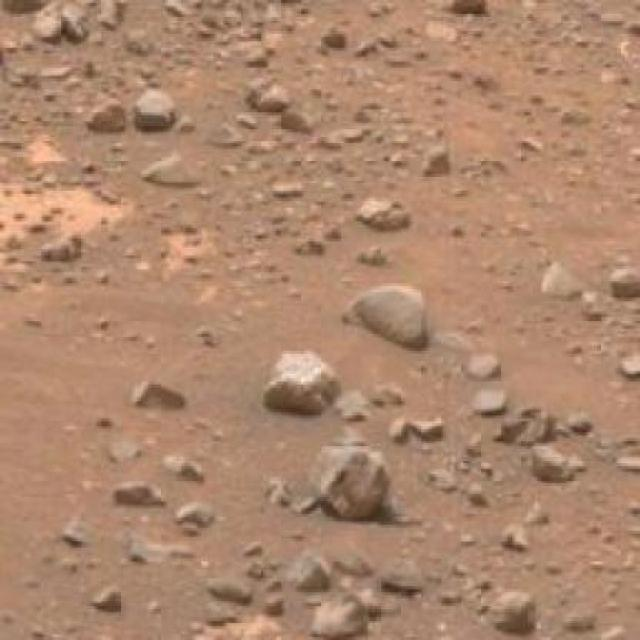rock: (304, 438, 398, 522), (338, 283, 434, 354), (262, 350, 340, 415)
